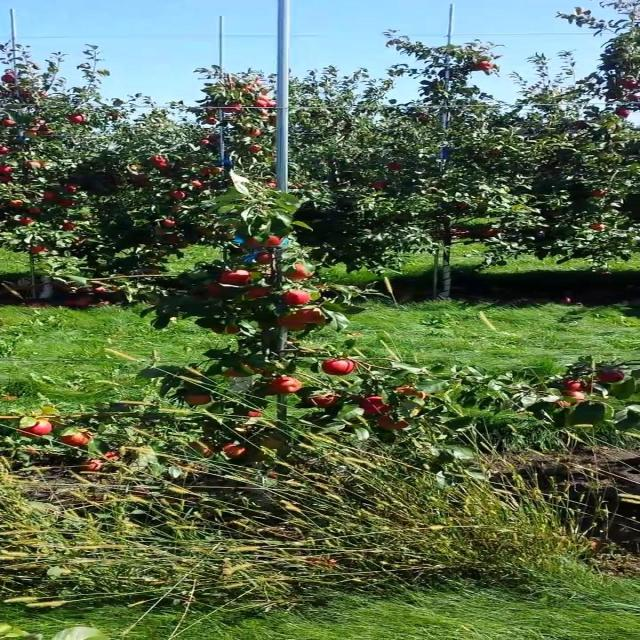apple: (18, 418, 53, 437), (222, 362, 262, 378), (322, 359, 358, 376), (553, 390, 587, 408), (269, 376, 302, 394), (360, 395, 389, 415), (218, 269, 251, 286), (284, 262, 313, 280), (376, 415, 409, 430), (278, 314, 307, 331), (189, 440, 216, 458), (60, 431, 91, 446), (309, 392, 340, 407), (282, 290, 311, 306), (296, 308, 324, 324), (396, 385, 427, 399), (222, 441, 247, 458), (562, 379, 593, 392), (184, 392, 211, 406), (204, 282, 227, 298), (596, 369, 624, 382), (244, 286, 271, 299), (562, 390, 587, 404), (562, 379, 587, 391), (80, 459, 104, 471), (211, 325, 240, 334), (256, 251, 273, 264), (244, 236, 262, 248), (264, 235, 282, 246), (102, 450, 120, 461), (578, 380, 593, 392), (553, 400, 571, 408), (244, 410, 262, 418), (224, 325, 238, 334)
